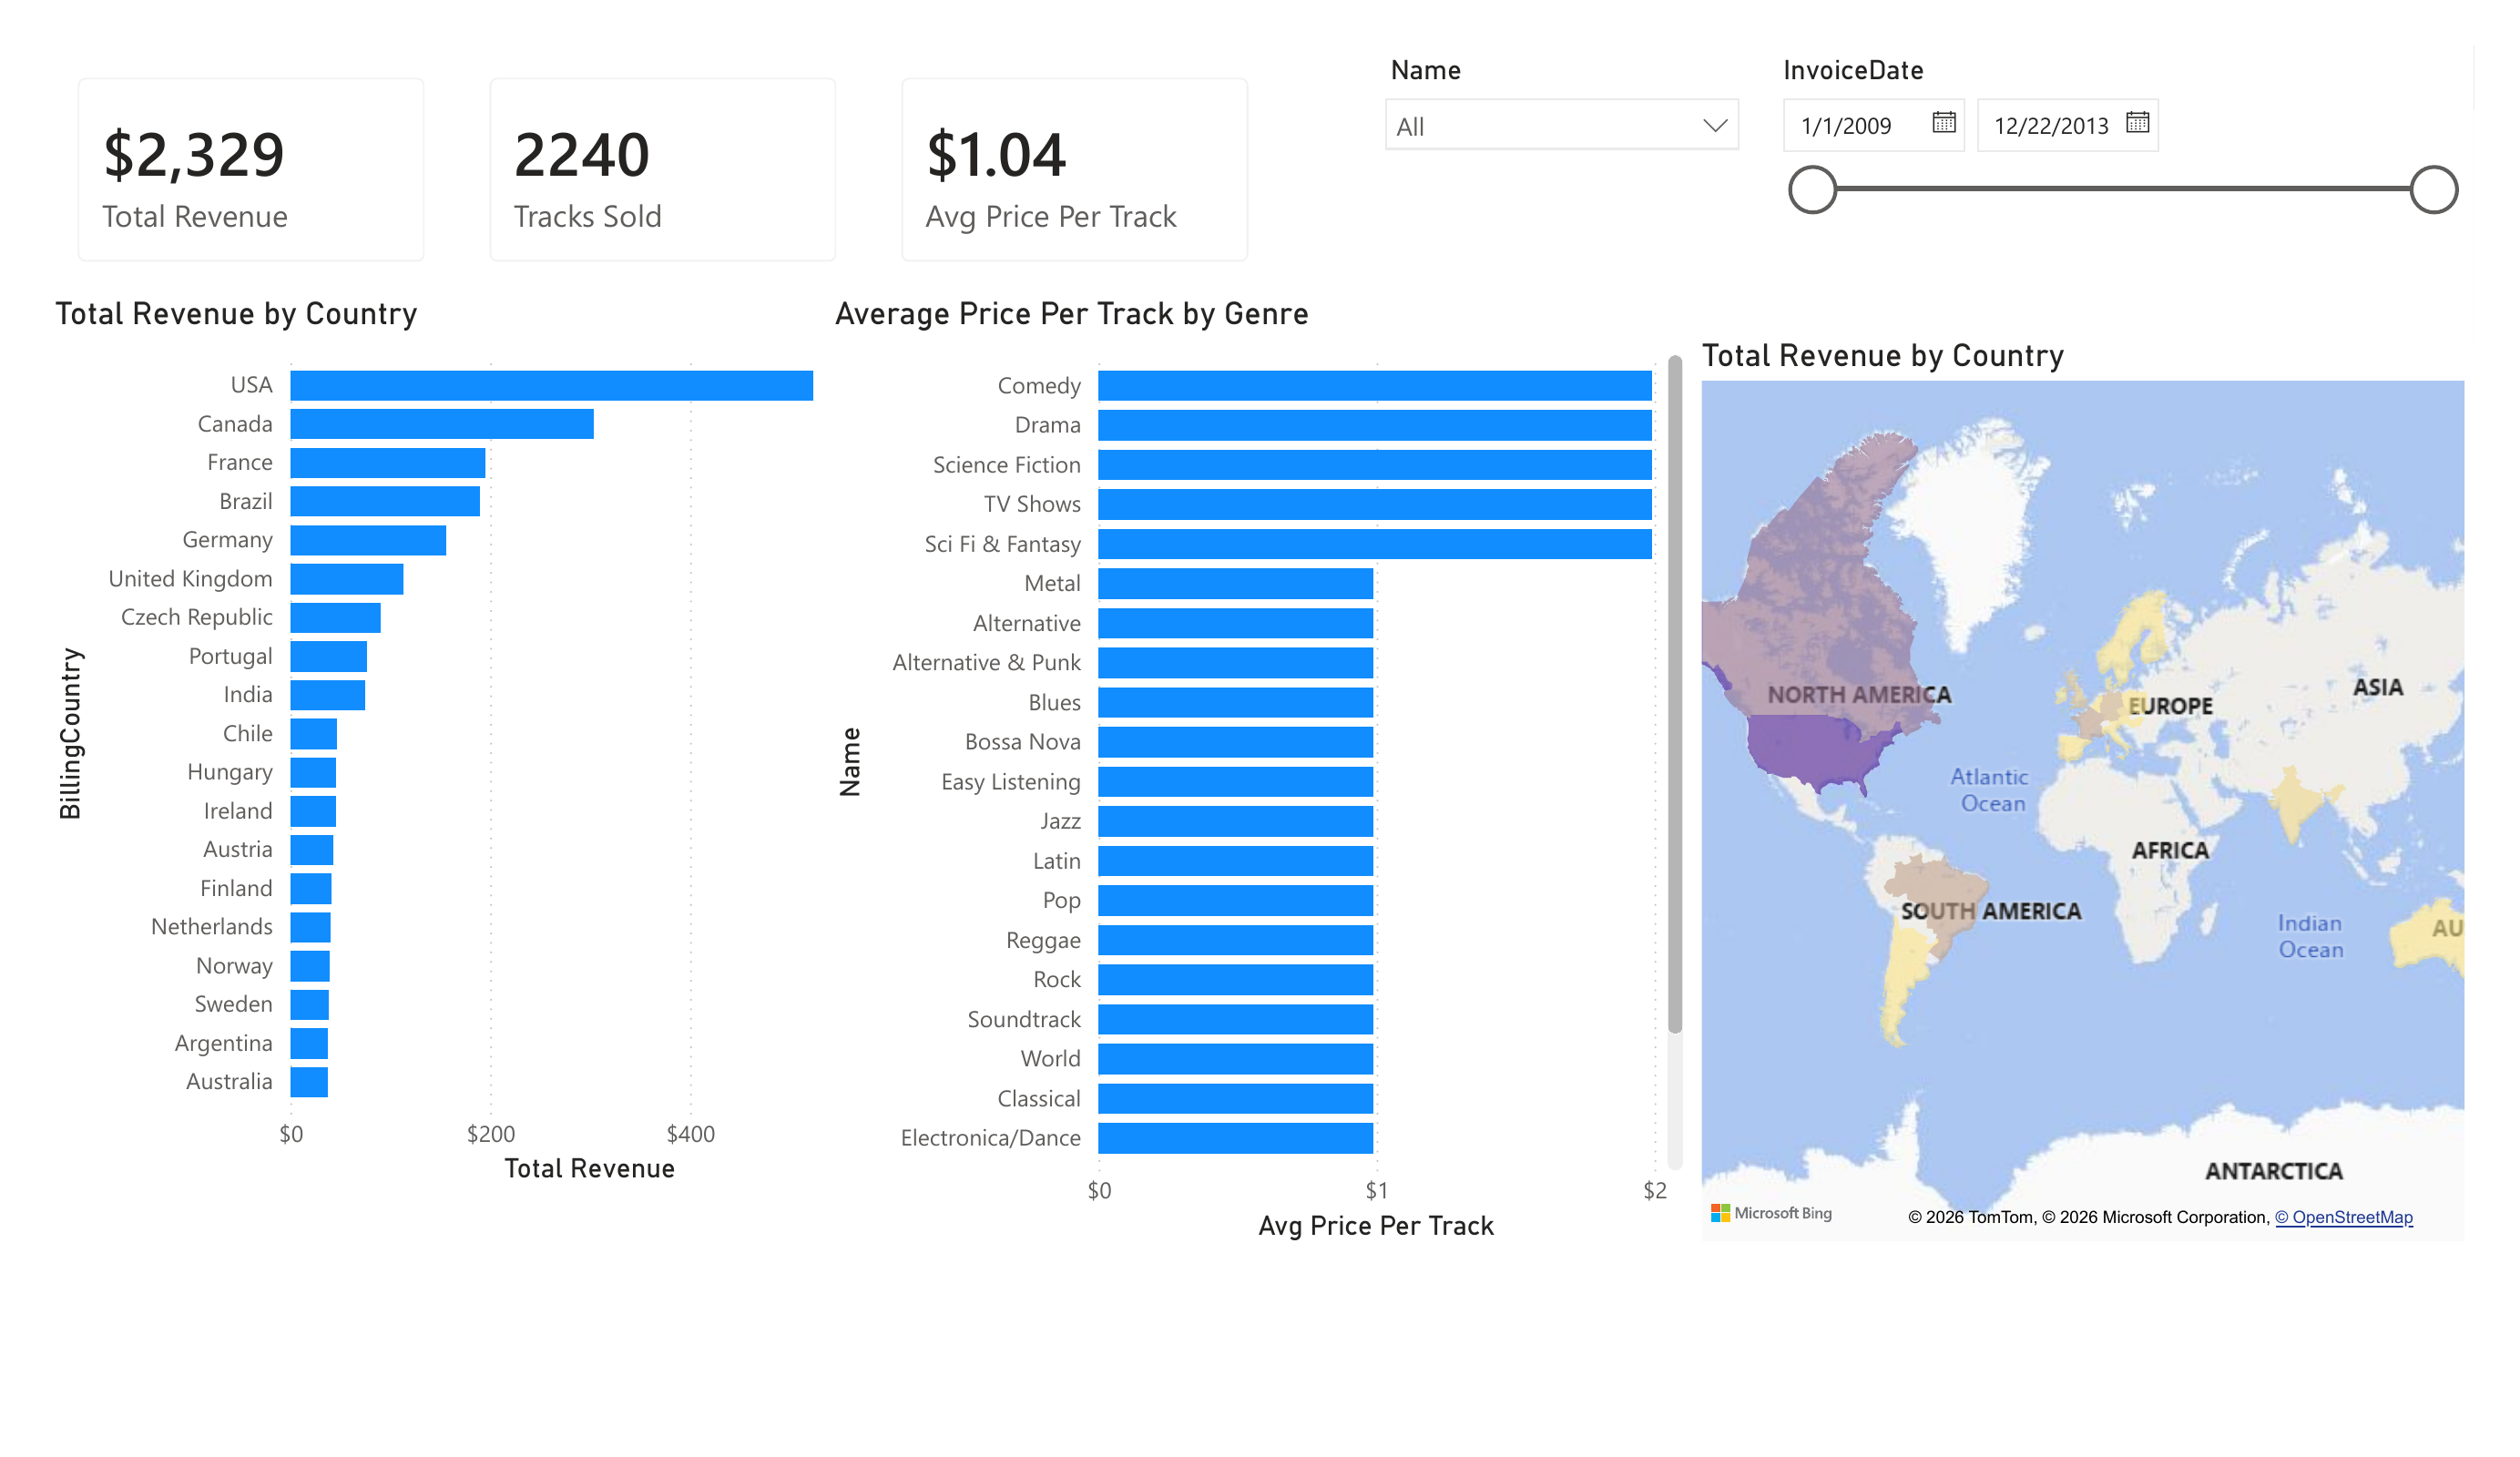

Layout of this report page (visuals, bound fields, positions):
{"tool":"powerbi","page":{"name":"Overview","canvas":[1280,720],"ordinal":0},"visuals":[{"type":"cardVisual","fields":{"Data":["AllMeasures.Total Revenue"]},"box":[0,0,216.9,131.3],"z":0},{"type":"cardVisual","fields":{"Data":["AllMeasures.Tracks Sold"]},"box":[216.9,0,216.9,131.3],"z":1},{"type":"cardVisual","fields":{"Data":["AllMeasures.Avg Price Per Track"]},"box":[433.8,0,216.9,131.3],"z":2},{"type":"clusteredBarChart","title":"Total Revenue by Country","fields":{"Category":["Invoice.BillingCountry"],"Y":["AllMeasures.Total Revenue"]},"box":[0,131.3,470.8,473.7],"z":3},{"type":"clusteredBarChart","title":"Average Price Per Track by Genre","fields":{"Category":["Genre.Name"],"Y":["AllMeasures.Avg Price Per Track"]},"box":[411.4,131.3,456.2,503.8],"z":4},{"type":"filledMap","title":"Total Revenue by Country","fields":{"Category":["Invoice.BillingCountry"]},"box":[867.6,152.7,412.4,482.4],"z":5},{"type":"slicer","fields":{"Values":["Genre.Name"]},"box":[696.4,0,206.2,131.3],"z":6},{"type":"slicer","fields":{"Values":["Invoice.InvoiceDate"]},"box":[903,0,377,153],"z":7}]}

Visuals, with their boxes on the page's 1280x720 design canvas (x1, y1, x2, y2). These are canvas units, not pixel positions in the 2520x1457 screenshot, which may show the page scaled, cropped or inside an application window:
cardVisual - AllMeasures.Total Revenue: box(0, 0, 217, 131)
cardVisual - AllMeasures.Tracks Sold: box(217, 0, 434, 131)
cardVisual - AllMeasures.Avg Price Per Track: box(434, 0, 651, 131)
"Total Revenue by Country" clusteredBarChart: box(0, 131, 471, 605)
"Average Price Per Track by Genre" clusteredBarChart: box(411, 131, 868, 635)
"Total Revenue by Country" filledMap: box(868, 153, 1280, 635)
slicer - Genre.Name: box(696, 0, 903, 131)
slicer - Invoice.InvoiceDate: box(903, 0, 1280, 153)
